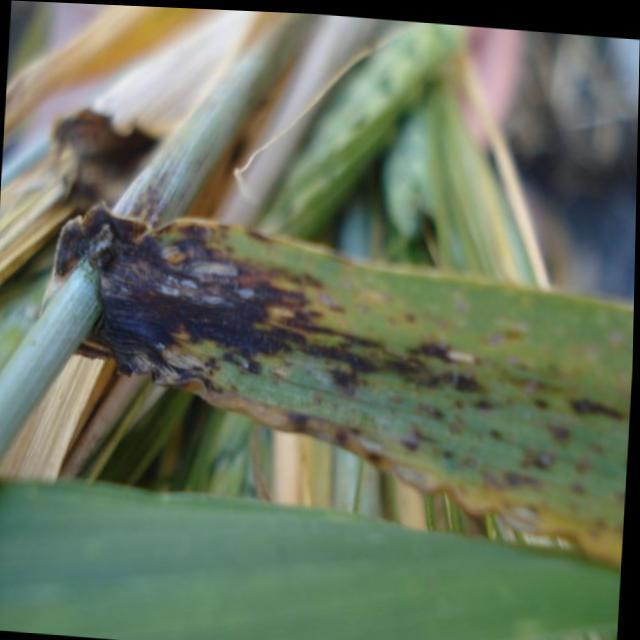Stem Rust: (51, 204, 634, 563)
